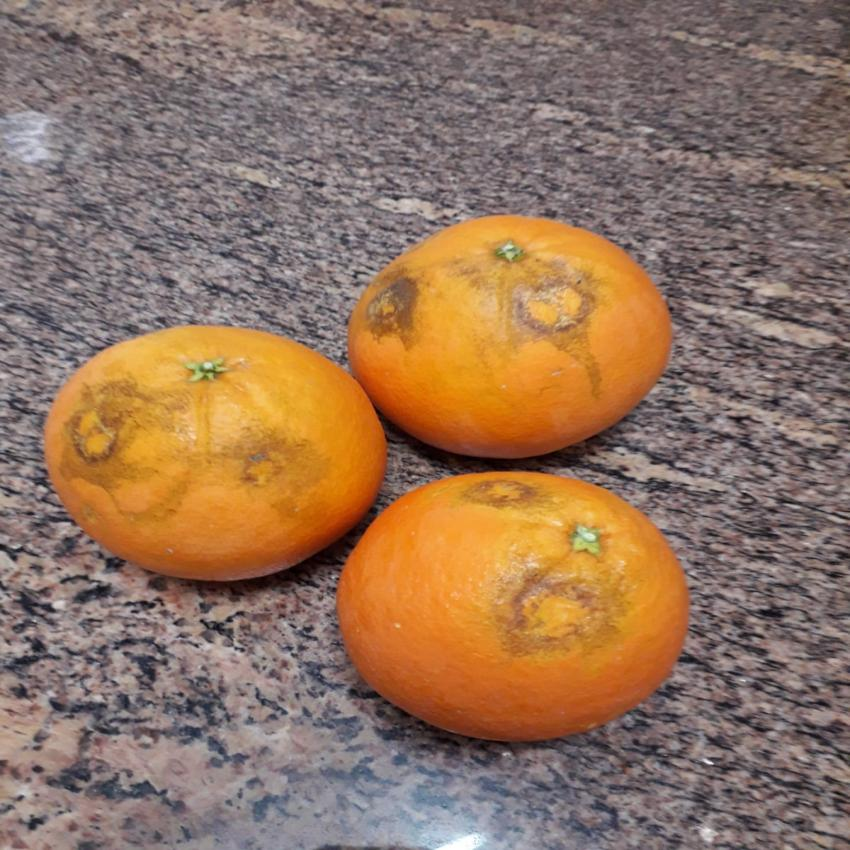Mal estado: (326, 468, 725, 754), (26, 310, 402, 600), (326, 216, 690, 465)
